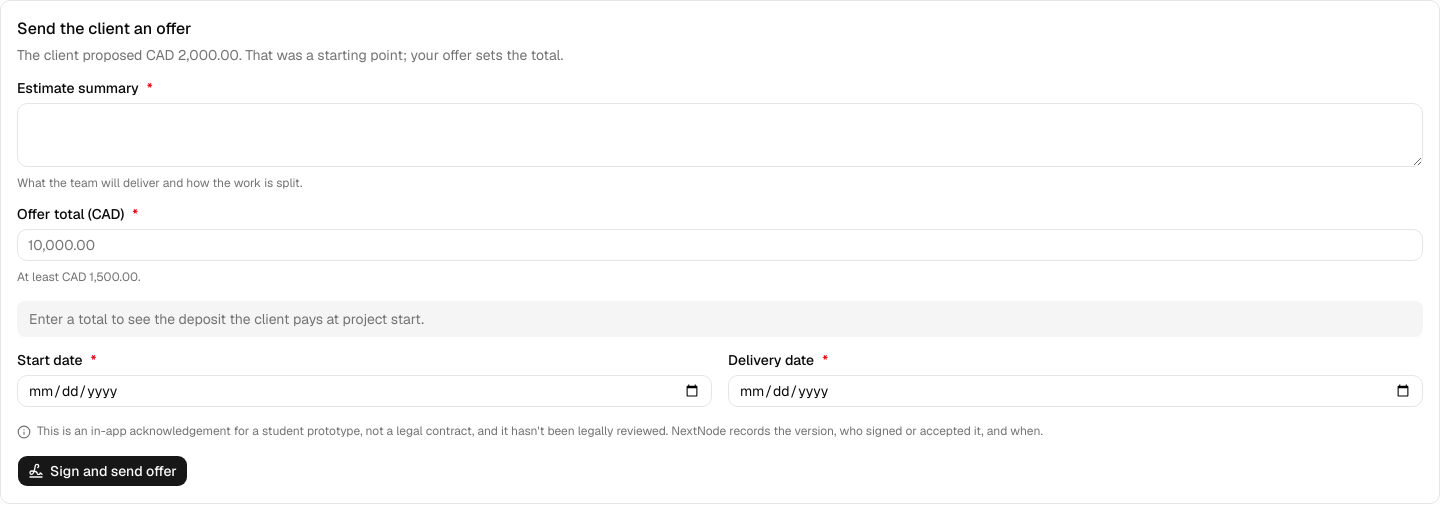
SendOfferForm › shows the client's proposed budget and the server's deposit for the total
Expected: the text "The client proposed CAD 2,000.00" is shown, [17,46,563,64]
Type "10000" into the field labelled "Offer total (CAD) *" at [720, 245], box [17,229,1423,261]
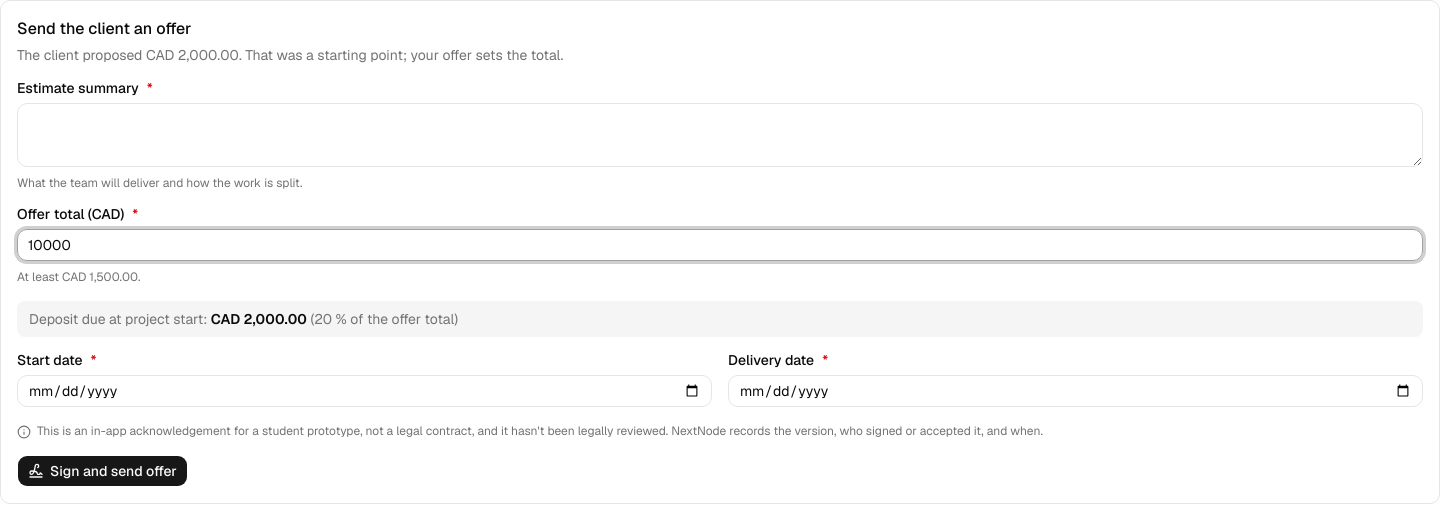
Expected: the text "CAD 2,000.00" is shown, [211,310,307,328]
